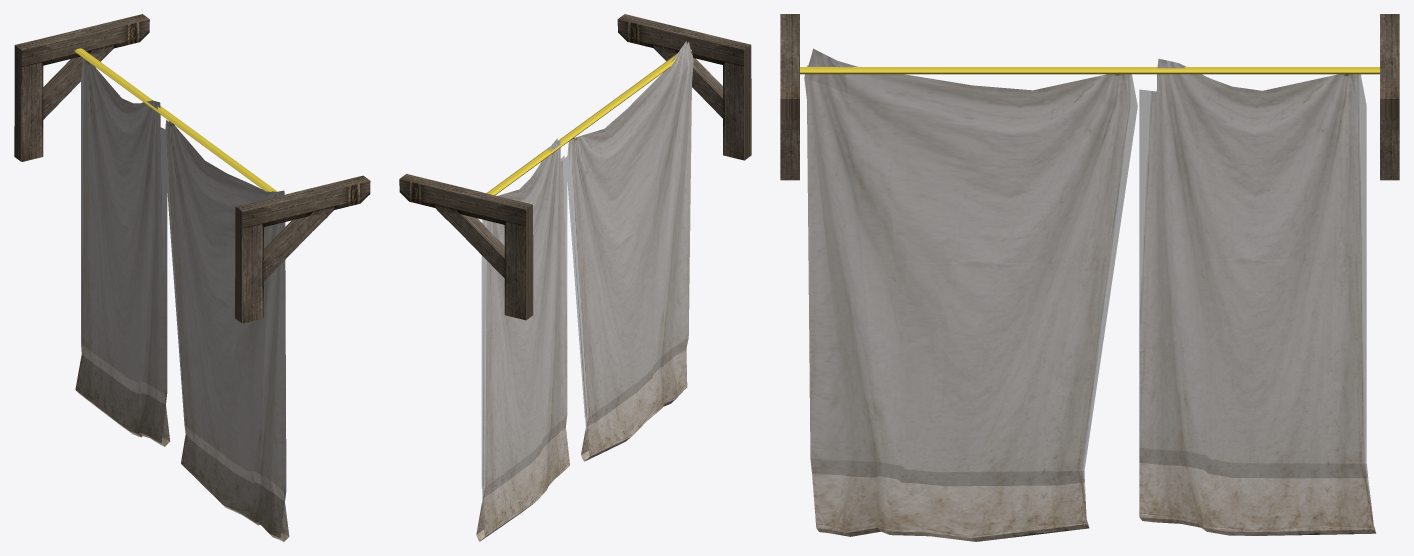
File: LaundrySheets.fbx
The picture shows the model from 3 angles, left to right: view 1: azimuth 30°, elevation 25°; view 2: azimuth 150°, elevation 25°; view 3: azimuth 270°, elevation 25°; orthographic projection. The views are drawn at different scales.
Parts seen in each view (by area): view 1: Plane.002, Plane.001, Plane.003, Plane, Cylinder; view 2: Plane.002, Plane.001, Plane, Plane.003, Cylinder; view 3: Plane.002, Plane.001, Cylinder, Plane, Plane.003.
Boxes of the visible parts, left/top/right/bottom form: Plane.002: left=164, top=120, right=289, bottom=541; Plane.001: left=75, top=58, right=170, bottom=446; Plane.003: left=235, top=175, right=370, bottom=323; Plane: left=14, top=14, right=149, bottom=161; Cylinder: left=75, top=48, right=277, bottom=191; Plane.002: left=567, top=41, right=693, bottom=461; Plane.001: left=476, top=138, right=569, bottom=541; Plane: left=399, top=174, right=533, bottom=320; Plane.003: left=617, top=14, right=751, bottom=160; Cylinder: left=486, top=50, right=691, bottom=195; Plane.002: left=804, top=48, right=1137, bottom=541; Plane.001: left=1139, top=58, right=1376, bottom=535; Cylinder: left=800, top=67, right=1379, bottom=74; Plane: left=1380, top=14, right=1399, bottom=180; Plane.003: left=780, top=14, right=799, bottom=180.
Bounding box in the file's own units: 76.84 × 207 × 237.
Materials: 2 (1 with a texture image).
